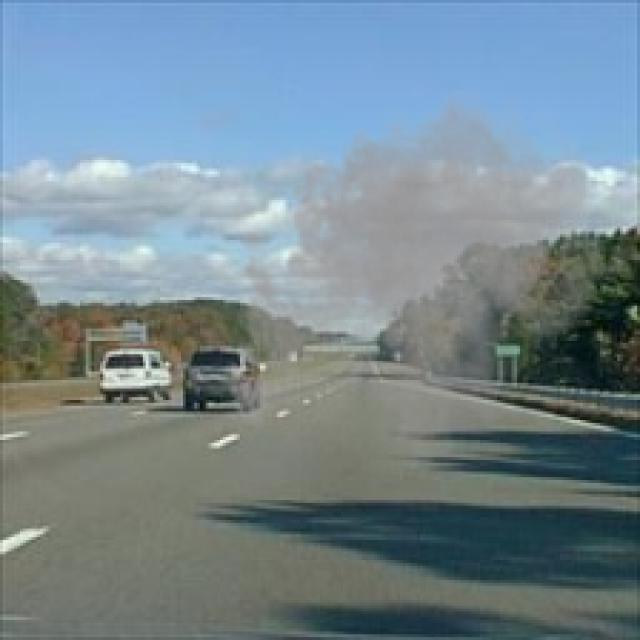Smoke: (214, 74, 632, 497)
